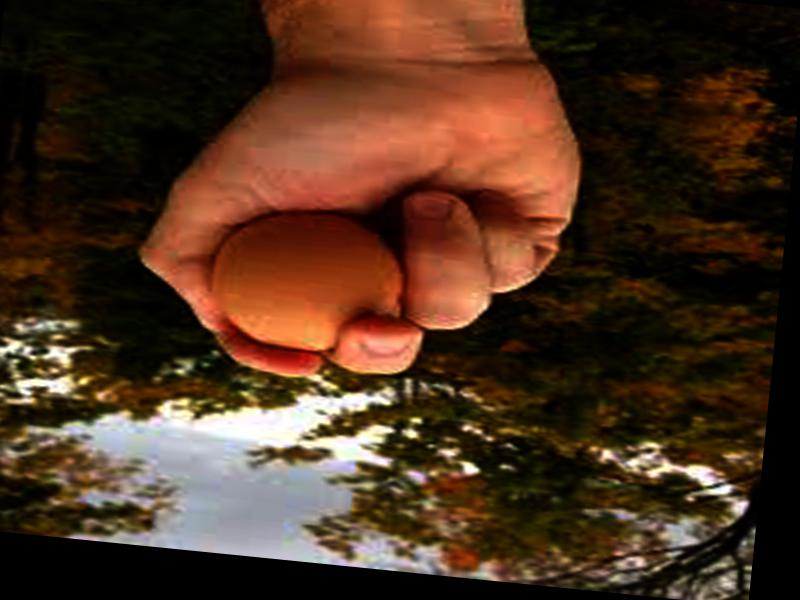Eggs: (207, 203, 418, 359)
